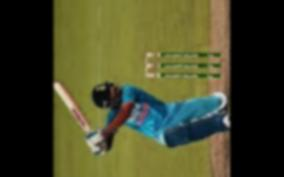batsman: (59, 64, 231, 164)
